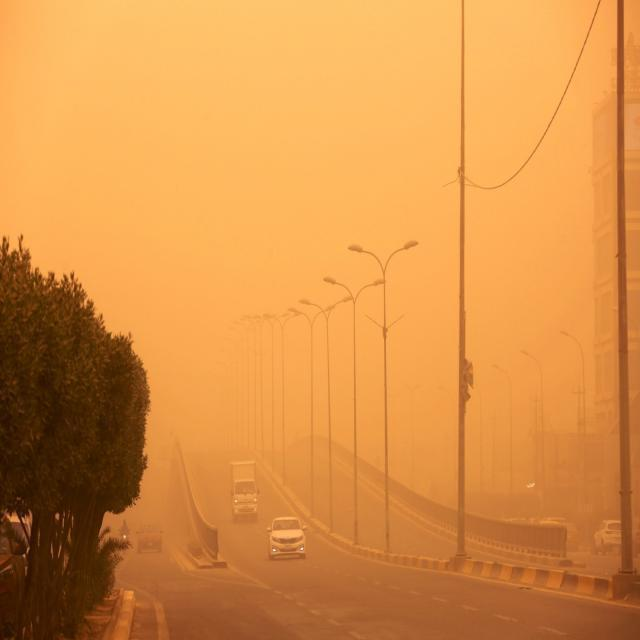Pothole: (131, 618, 146, 632), (516, 586, 532, 590)
